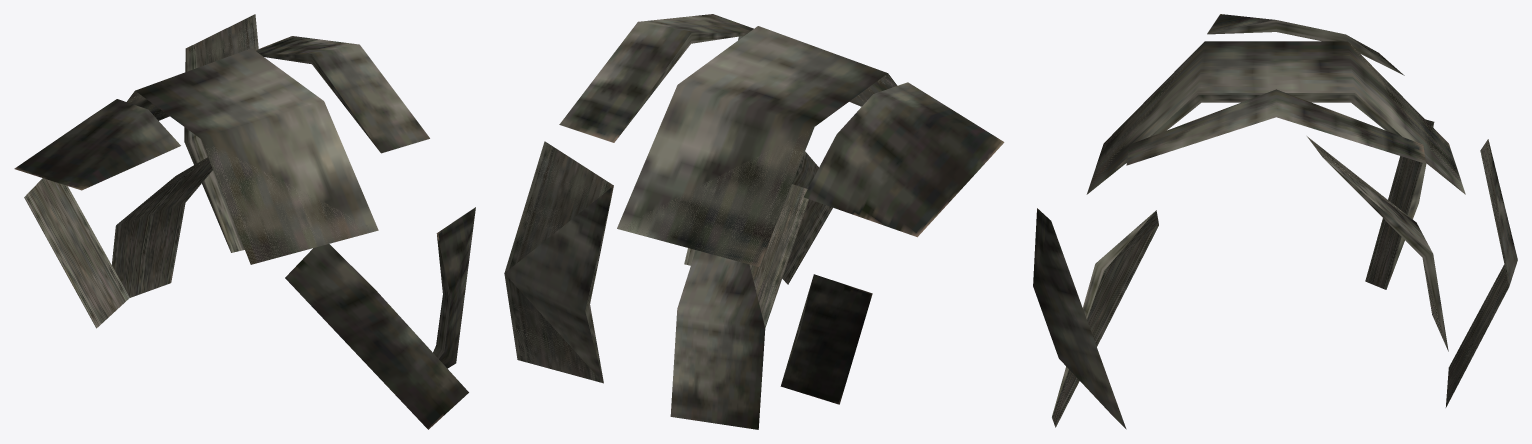
The model's file is thm_tato_lucky_despot_debris_nose_cone_l3.fbx.
The picture shows the model from 3 angles, left to right: view 1: azimuth 30°, elevation 25°; view 2: azimuth 150°, elevation 25°; view 3: azimuth 270°, elevation 25°; orthographic projection. The views are drawn at different scales.
Parts seen in each view (by area): view 1: mesh_node; view 2: mesh_node; view 3: mesh_node.
Part boxes in pixels (x1,y1,x2,y2): mesh_node: (14,14,475,429); mesh_node: (504,14,1004,429); mesh_node: (1033,14,1517,429).
Size of the model in its own units: 13.88 by 12.12 by 16.1.
